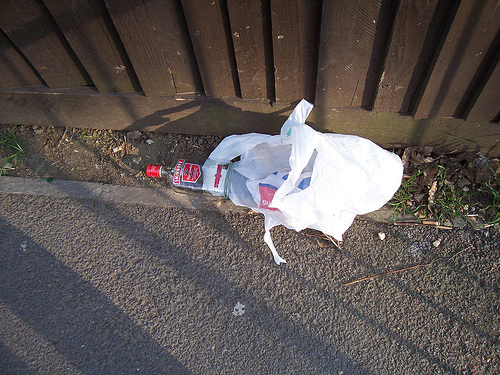litter: (206, 97, 405, 265), (144, 154, 233, 198)
